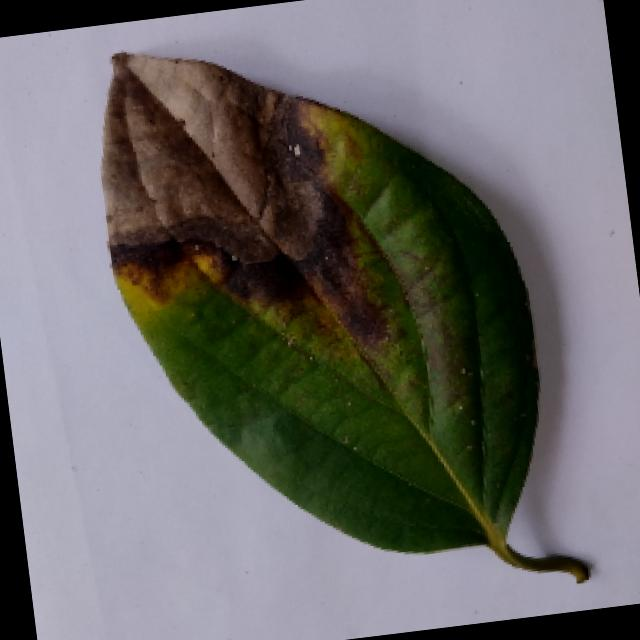footrot: (46, 0, 623, 631)
